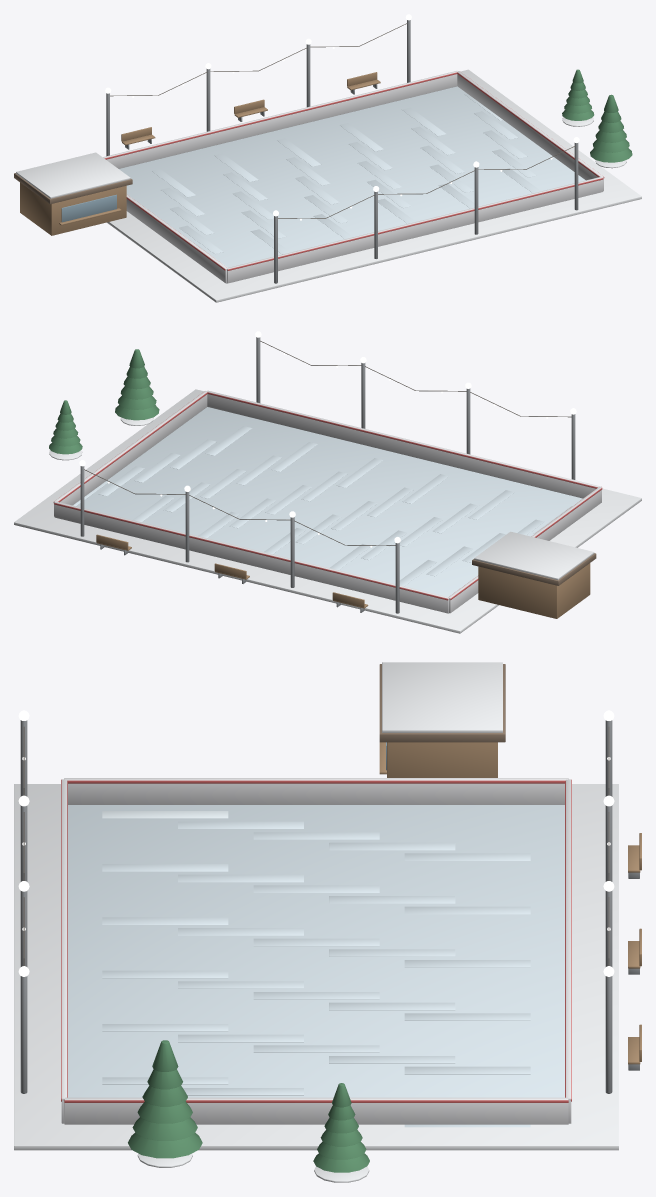
The model's file is th29_eisbahn_freiluft.glb.
3 renders of one model, top to bottom at view 1: azimuth 30°, elevation 25°; view 2: azimuth 150°, elevation 25°; view 3: azimuth 270°, elevation 25°, orthographic. The views are drawn at different scales.
Visible parts, largest first — view 1: Cube.001, Cube, Cube.032, Cube.034, Cube.054, Cube.052, Cube.038, Cube.036, Cube.055, Cube.033, Cube.035, Cube.053 (+1 smaller); view 2: Cube.001, Cube, Cube.032, Cube.034, Cube.052, Cube.054, Cube.038, Cube.036, Cube.033, Cube.035, Cube.053, Cone; view 3: Cube.001, Cube, Cube.036, Cube.038, Cube.054, Cube.052, Cube.032, Cube.034, Cube.037, Cube.053, Cube.039, Cone (+33 smaller).
Boxes of the visible parts, left/top/right/bottom form: Cube.001: left=119, top=86, right=585, bottom=283; Cube: left=107, top=69, right=641, bottom=302; Cube.032: left=227, top=177, right=603, bottom=283; Cube.034: left=103, top=71, right=457, bottom=168; Cube.054: left=16, top=152, right=130, bottom=198; Cube.052: left=20, top=182, right=126, bottom=235; Cube.038: left=457, top=71, right=603, bottom=190; Cube.036: left=126, top=194, right=227, bottom=283; Cube.055: left=61, top=194, right=116, bottom=222; Cube.033: left=227, top=178, right=603, bottom=270; Cube.035: left=104, top=72, right=457, bottom=159; Cube.053: left=14, top=173, right=132, bottom=204; Cube.001: left=76, top=407, right=582, bottom=613; Cube: left=14, top=389, right=641, bottom=633; Cube.032: left=207, top=390, right=601, bottom=498; Cube.034: left=54, top=501, right=448, bottom=613; Cube.052: left=478, top=563, right=590, bottom=618; Cube.054: left=474, top=531, right=594, bottom=580; Cube.038: left=54, top=391, right=207, bottom=516; Cube.036: left=448, top=487, right=601, bottom=613; Cube.033: left=207, top=392, right=597, bottom=488; Cube.035: left=54, top=503, right=448, bottom=600; Cube.053: left=472, top=553, right=596, bottom=585; Cone: left=115, top=405, right=159, bottom=420; Cube.001: left=68, top=805, right=564, bottom=1097; Cube: left=14, top=784, right=618, bottom=1150; Cube.036: left=64, top=778, right=568, bottom=804; Cube.038: left=64, top=1097, right=568, bottom=1124; Cube.054: left=382, top=662, right=502, bottom=732; Cube.052: left=387, top=742, right=497, bottom=777; Cube.032: left=61, top=779, right=67, bottom=1123; Cube.034: left=566, top=779, right=571, bottom=1123; Cube.037: left=68, top=780, right=564, bottom=783; Cube.053: left=379, top=664, right=505, bottom=742; Cube.039: left=64, top=1100, right=568, bottom=1102; Cone: left=128, top=1132, right=202, bottom=1158.
Size of the model in its own units: 42.4 by 5.72 by 24.91.
